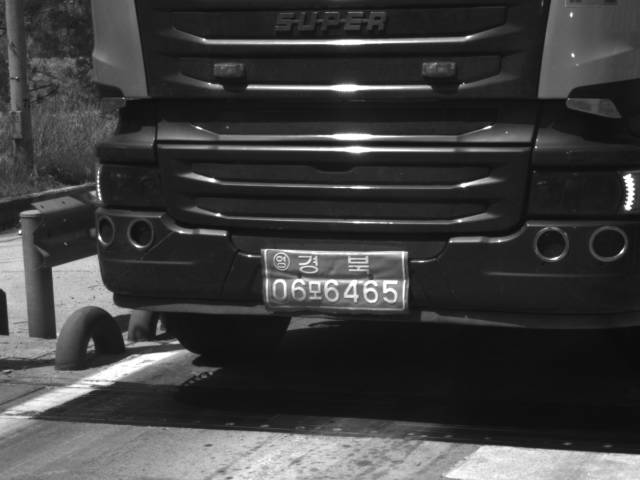car: (86, 1, 640, 365)
plate: (259, 247, 408, 312)
